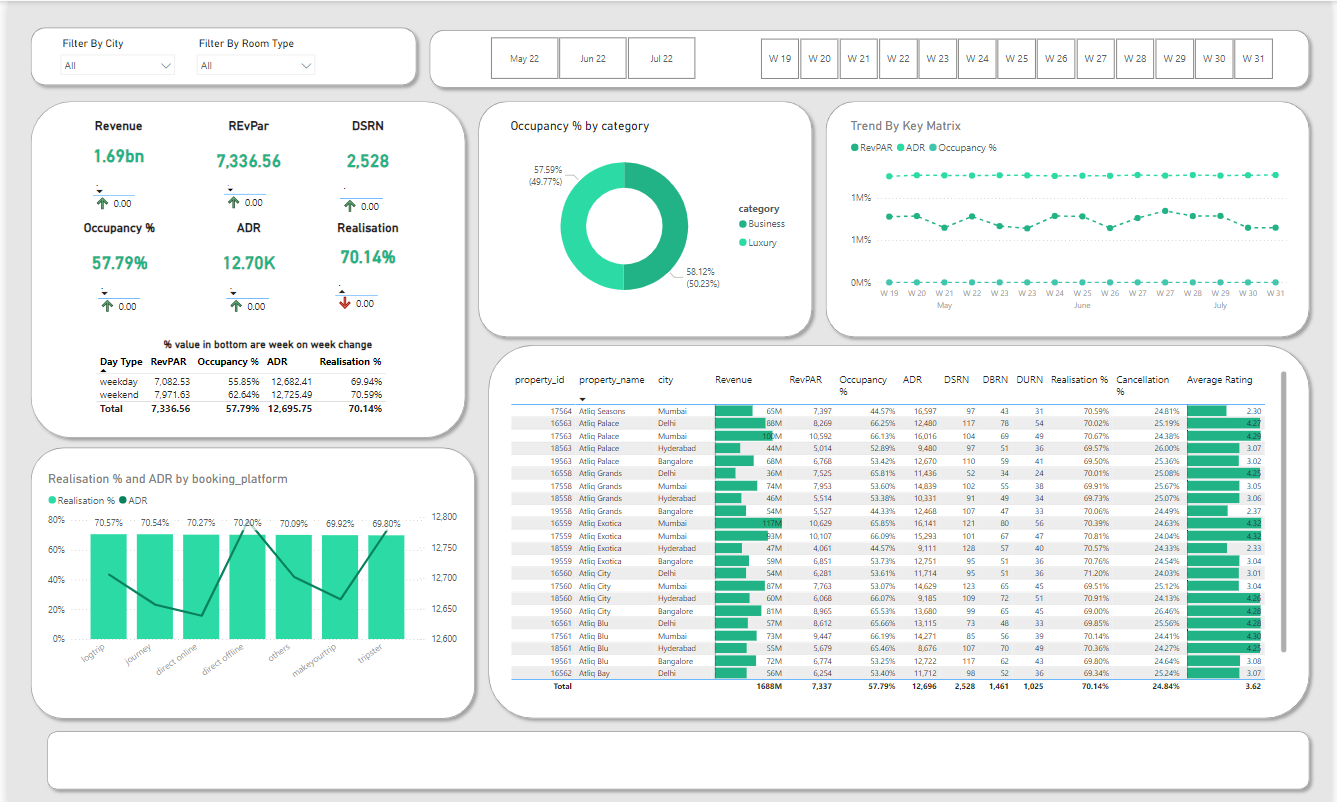

What the dashboard file says about the page in this screenshot:
{"tool":"powerbi","page":{"name":"Page 1","canvas":[1800,1100],"ordinal":0},"visuals":[{"type":"shape","box":[644.4,459.3,1135.2,525.9],"z":0},{"type":"shape","box":[631.5,127.9,472.2,338.9],"z":1000},{"type":"shape","box":[1103.7,127.9,675.9,338.9],"z":2000},{"type":"shape","box":[22.2,598.1,622.2,387],"z":3000},{"type":"shape","box":[22.2,127.8,609.3,475.9],"z":4000},{"type":"shape","box":[564.8,29.8,1214.8,96.3],"z":5000},{"type":"shape","box":[22.2,27.9,542.6,96.3],"z":6000},{"type":"tableEx","fields":{"Values":["dim_hotels.property_id","dim_hotels.property_name","dim_hotels.city","key_measures.Revenue","key_measures.RevPAR","key_measures.Occupancy %","key_measures.ADR","key_measures.DSRN","key_measures.DBRN","key_measures.DURN","key_measures.Realisation %","key_measures.Cancellation %"]},"box":[677.8,498.1,1066.7,446.3],"z":7000},{"type":"slicer","fields":{"Values":["dim_hotels.city"]},"box":[61.1,44.6,175.9,63],"z":8000},{"type":"slicer","fields":{"Values":["dim_rooms.room_class"]},"box":[246.3,44.6,181.5,63],"z":9000},{"type":"slicer","fields":{"Values":["dim_date.mmm yy"]},"box":[631.5,42.7,327.8,70.4],"z":10000},{"type":"slicer","fields":{"Values":["dim_date.week no"]},"box":[998.1,44.6,746.3,68.5],"z":11000},{"type":"card","title":"Revenue","fields":{"Values":["key_measures.Revenue"]},"box":[66.7,159.3,168.5,81.5],"z":12000},{"type":"tableEx","fields":{"Values":["key_measures.Revenue WoW change %"]},"box":[109.3,231.5,85.2,66.7],"z":13000},{"type":"donutChart","fields":{"Category":["dim_hotels.category"],"Y":["key_measures.Occupancy %"]},"box":[677.8,159.4,394.4,274.1],"z":14000},{"type":"cardVisual","title":"REvPar","fields":{"Data":["key_measures.RevPAR"]},"box":[253.7,159.3,148.1,85.2],"z":15000},{"type":"tableEx","title":".","fields":{"Values":["key_measures.Revpar WoW change %"]},"box":[287,235.2,83.3,59.3],"z":16000},{"type":"cardVisual","title":"DSRN","fields":{"Data":["key_measures.DSRN"]},"box":[418.5,159.3,142.6,79.6],"z":17000},{"type":"tableEx","fields":{"Values":["key_measures.DSRN WoW change %"]},"box":[446.3,235.2,81.5,59.3],"z":18000},{"type":"cardVisual","title":"Occupancy %","fields":{"Data":["key_measures.Occupancy %"]},"box":[85.2,298.1,133.3,90.7],"z":19000},{"type":"tableEx","fields":{"Values":["key_measures.Occupancy WoW change %"]},"box":[114.8,370.4,81.5,64.8],"z":20000},{"type":"cardVisual","title":"ADR","fields":{"Data":["key_measures.ADR"]},"box":[253.7,298.1,148.1,81.5],"z":21000},{"type":"tableEx","fields":{"Values":["key_measures.ADR WoW change %"]},"box":[290.7,370.4,83.3,68.5],"z":22000},{"type":"card","title":"Realisation","fields":{"Values":["key_measures.Realisation %"]},"box":[418.5,298.1,142.6,81.5],"z":23000},{"type":"tableEx","fields":{"Values":["key_measures.Realisation WoW change %"]},"box":[438.9,366.7,87,68.5],"z":24000},{"type":"lineChart","title":"Trend By Key Matrix","fields":{"Category":["dim_date.mmm yy.Variation.Date Hierarchy.Month","dim_date.week no"],"Y":["key_measures.RevPAR","key_measures.ADR","key_measures.Occupancy %"]},"box":[1140.7,159.4,603.7,274.1],"z":25000},{"type":"lineStackedColumnComboChart","fields":{"Category":["fact_bookings.booking_platform"],"Y":["key_measures.Realisation %"],"Y2":["key_measures.ADR"]},"box":[50,638.9,566.7,305.6],"z":26000},{"type":"tableEx","title":"% value in bottom are week on week change","fields":{"Values":["dim_date.datatype","key_measures.RevPAR","key_measures.Occupancy %","key_measures.ADR","key_measures.Realisation %"]},"box":[114.3,459,479.2,112.4],"z":27000},{"type":"shape","box":[43.4,984,1735.4,97.1],"z":28000}]}

Visuals, with their boxes in screenshot pixels (x1, y1, x2, y2), scaled from the page's 1800x1100 canvas onto the 1337x802 screenshot:
shape: <box>479,335,1322,718</box>
shape: <box>469,93,820,340</box>
shape: <box>820,93,1322,340</box>
shape: <box>16,436,479,718</box>
shape: <box>16,93,469,440</box>
shape: <box>420,22,1322,92</box>
shape: <box>16,20,420,91</box>
tableEx - dim_hotels.property_id x dim_hotels.property_name: <box>503,363,1296,689</box>
slicer - dim_hotels.city: <box>45,33,176,78</box>
slicer - dim_rooms.room_class: <box>183,33,318,78</box>
slicer - dim_date.mmm yy: <box>469,31,713,82</box>
slicer - dim_date.week no: <box>741,33,1296,82</box>
"Revenue" card: <box>50,116,175,176</box>
tableEx - key_measures.Revenue WoW change %: <box>81,169,144,217</box>
donutChart - dim_hotels.category x key_measures.Occupancy %: <box>503,116,796,316</box>
"REvPar" cardVisual: <box>188,116,298,178</box>
"." tableEx: <box>213,171,275,215</box>
"DSRN" cardVisual: <box>311,116,417,174</box>
tableEx - key_measures.DSRN WoW change %: <box>332,171,392,215</box>
"Occupancy %" cardVisual: <box>63,217,162,283</box>
tableEx - key_measures.Occupancy WoW change %: <box>85,270,146,317</box>
"ADR" cardVisual: <box>188,217,298,277</box>
tableEx - key_measures.ADR WoW change %: <box>216,270,278,320</box>
"Realisation" card: <box>311,217,417,277</box>
tableEx - key_measures.Realisation WoW change %: <box>326,267,391,317</box>
"Trend By Key Matrix" lineChart: <box>847,116,1296,316</box>
lineStackedColumnComboChart - fact_bookings.booking_platform x key_measures.Realisation %: <box>37,466,458,689</box>
"% value in bottom are week on week change" tableEx: <box>85,335,441,417</box>
shape: <box>32,717,1321,788</box>
